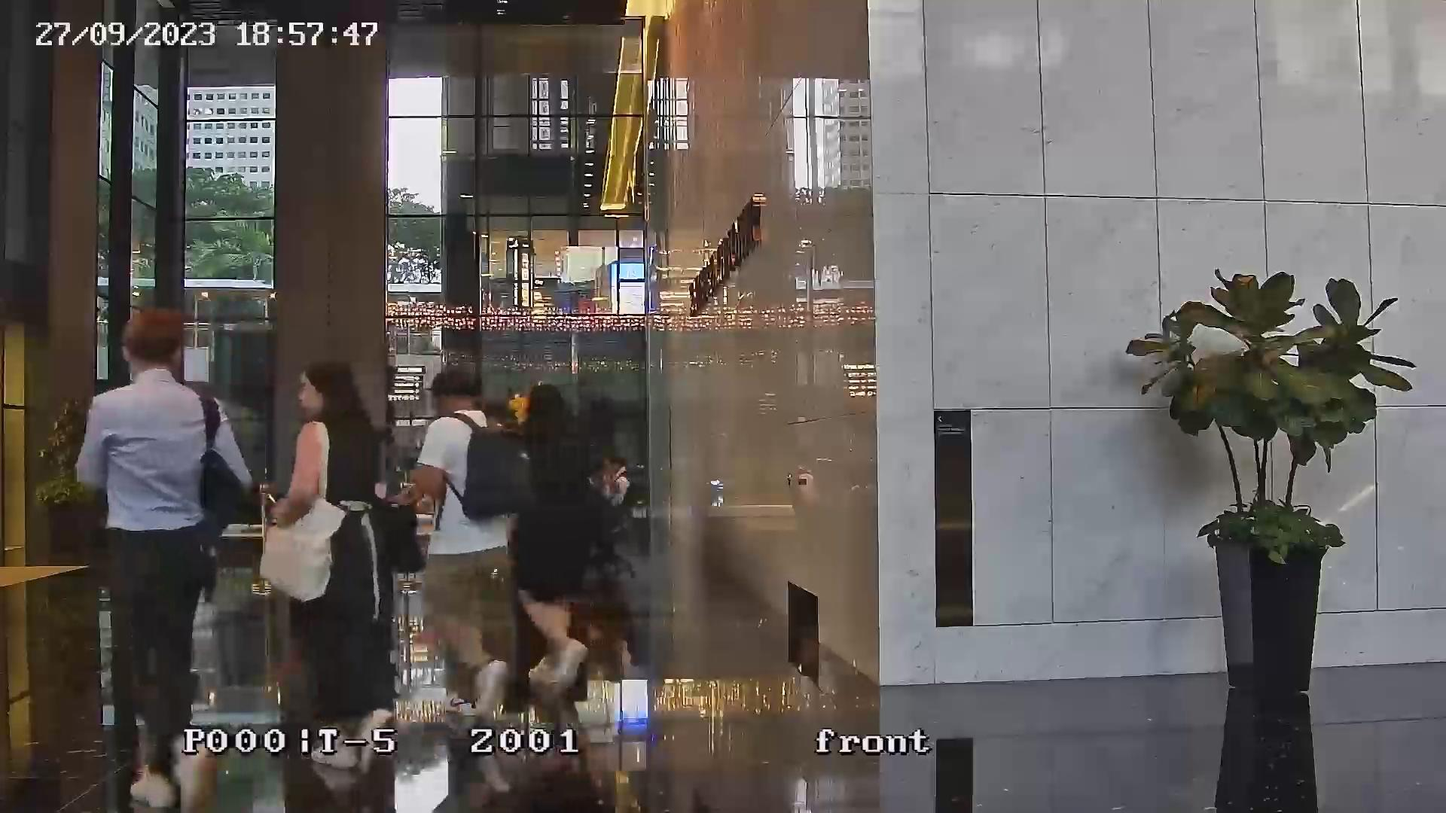person: (75, 306, 252, 798), (259, 361, 395, 744), (403, 361, 519, 729), (508, 382, 626, 718)
